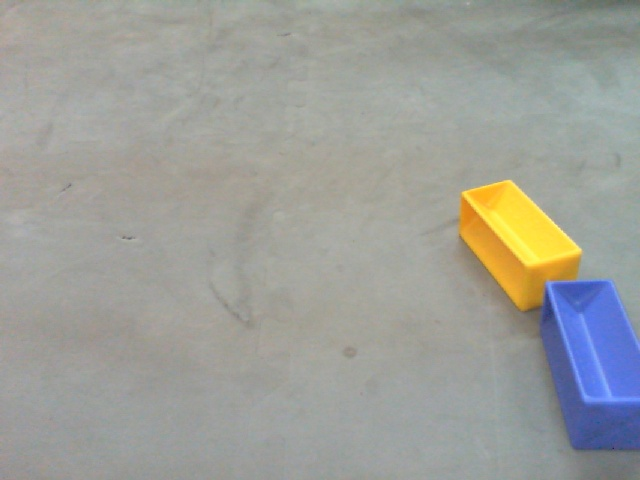BlueSample: (539, 278, 640, 451)
YellowSample: (456, 178, 580, 316)
